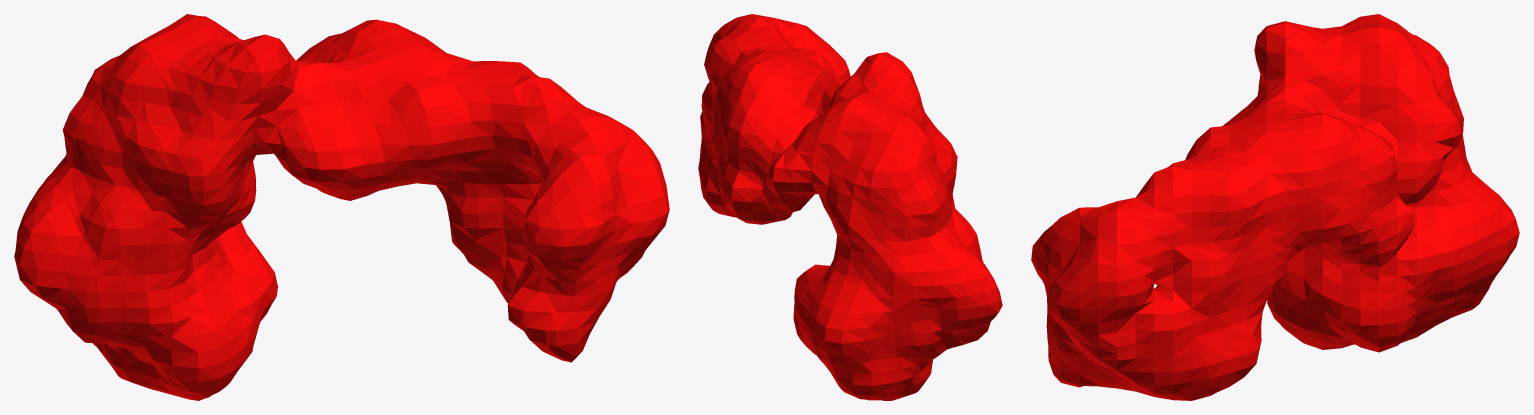
File: rarA_coarse.dae
3 renders of one model, left to right at view 1: azimuth 30°, elevation 25°; view 2: azimuth 150°, elevation 25°; view 3: azimuth 270°, elevation 25°, orthographic. The views are drawn at different scales.
Visible parts, largest first — view 1: rarA; view 2: rarA; view 3: rarA.
Boxes of the visible parts, x1,y1,x2,y2 form: rarA: (14,14,669,400); rarA: (698,14,1002,400); rarA: (1031,14,1519,400).
Size of the model in its own units: 92.44 by 65.39 by 83.26.
